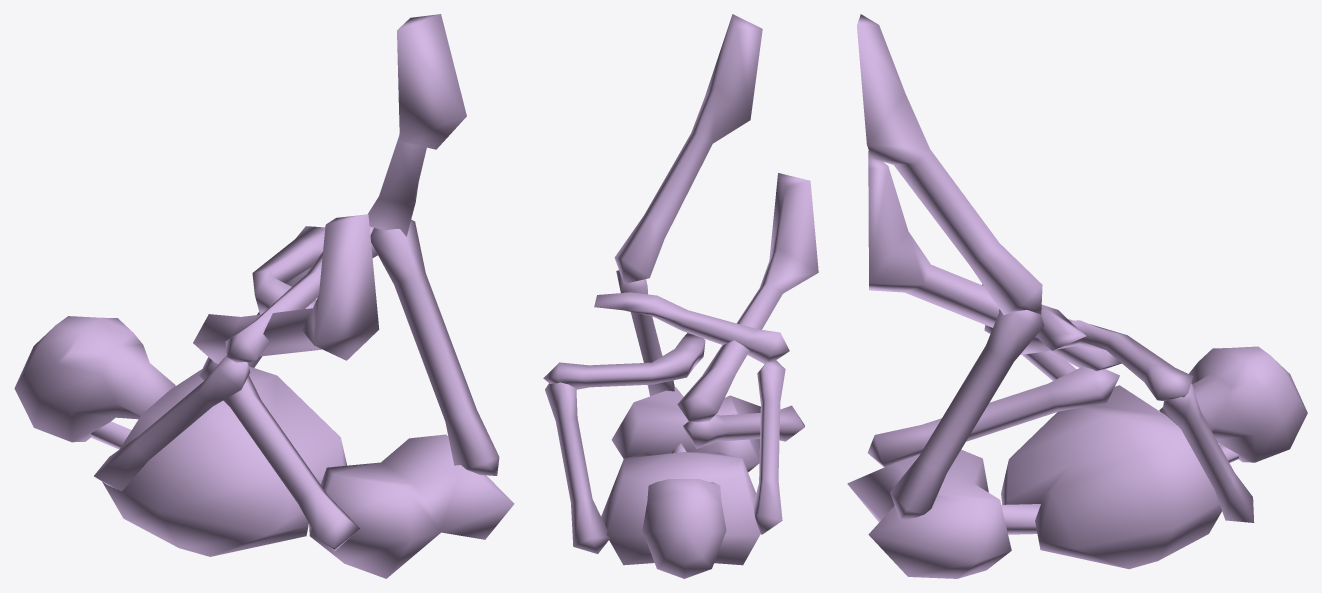
The picture shows the model from 3 angles, left to right: view 1: azimuth 30°, elevation 25°; view 2: azimuth 150°, elevation 25°; view 3: azimuth 270°, elevation 25°; orthographic projection. The views are drawn at different scales.
Visible parts, largest first — view 1: Object46; view 2: Object46; view 3: Object46.
Boxes of the visible parts, x1,y1,x2,y2 form: Object46: (14,14,514,578); Object46: (543,14,818,578); Object46: (847,14,1307,578).
Size of the model in its own units: 6078 by 11426 by 8765.
